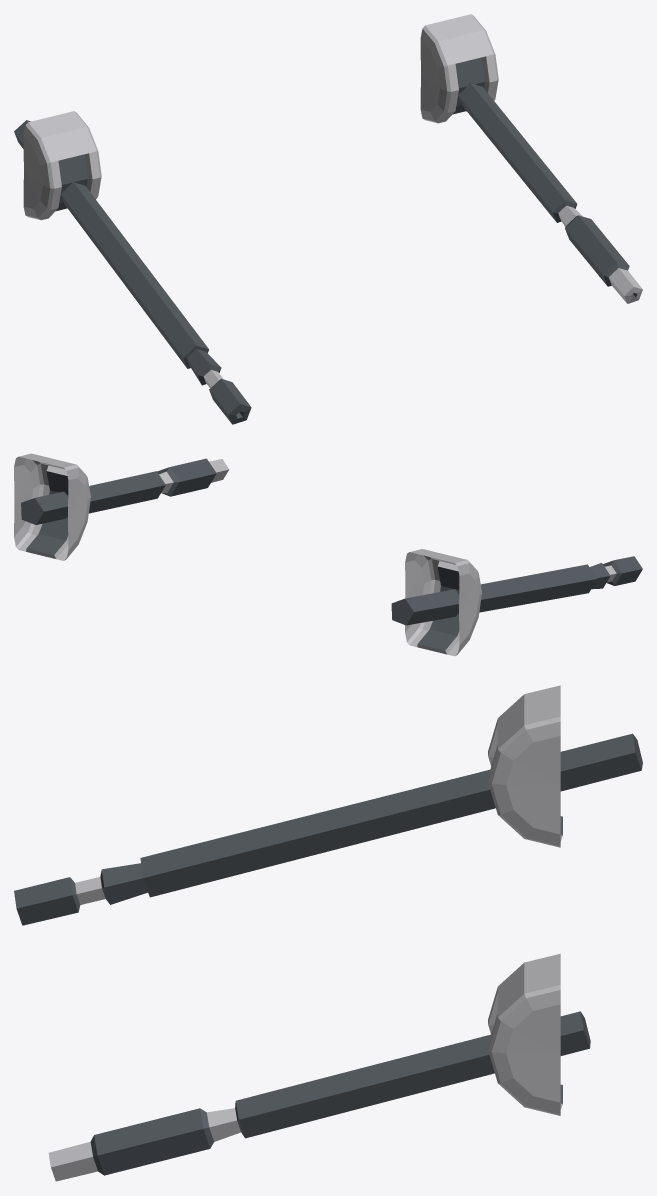
File: Dropship_05_Secondary_Artillery.fbx
The picture shows the model from 3 angles, top to bottom: view 1: azimuth 30°, elevation 25°; view 2: azimuth 150°, elevation 25°; view 3: azimuth 270°, elevation 25°; orthographic projection. The views are drawn at different scales.
Visible parts, largest first — view 1: Dropship_05_Secondary_Artillery; view 2: Dropship_05_Secondary_Artillery; view 3: Dropship_05_Secondary_Artillery.
Boxes of the visible parts, bbox=[...] form: Dropship_05_Secondary_Artillery: bbox=[14, 14, 642, 424]; Dropship_05_Secondary_Artillery: bbox=[14, 453, 642, 656]; Dropship_05_Secondary_Artillery: bbox=[14, 685, 642, 1181].
Bounding box in the file's own units: 307 × 106 × 267.
Materials: 1 (1 with a texture image).
